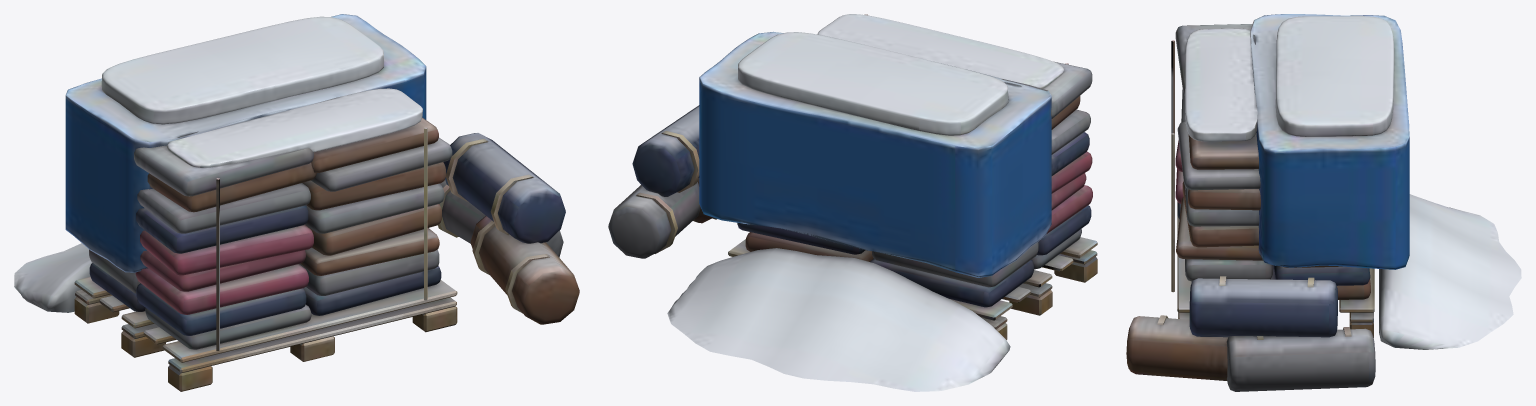
File: aid_blankets.glb
3 views of the same model, side by side, from view 1: azimuth 30°, elevation 25°; view 2: azimuth 150°, elevation 25°; view 3: azimuth 270°, elevation 25° (orthographic). The views are drawn at different scales.
Visible parts, largest first — view 1: aid_blankets; view 2: aid_blankets; view 3: aid_blankets.
Part boxes in pixels (<box>): aid_blankets: <box>14,14,579,391</box>; aid_blankets: <box>608,14,1097,391</box>; aid_blankets: <box>1126,14,1521,391</box>.
Size of the model in its own units: 1.89 by 0.9741 by 1.61.
1 material, 1 textured.
